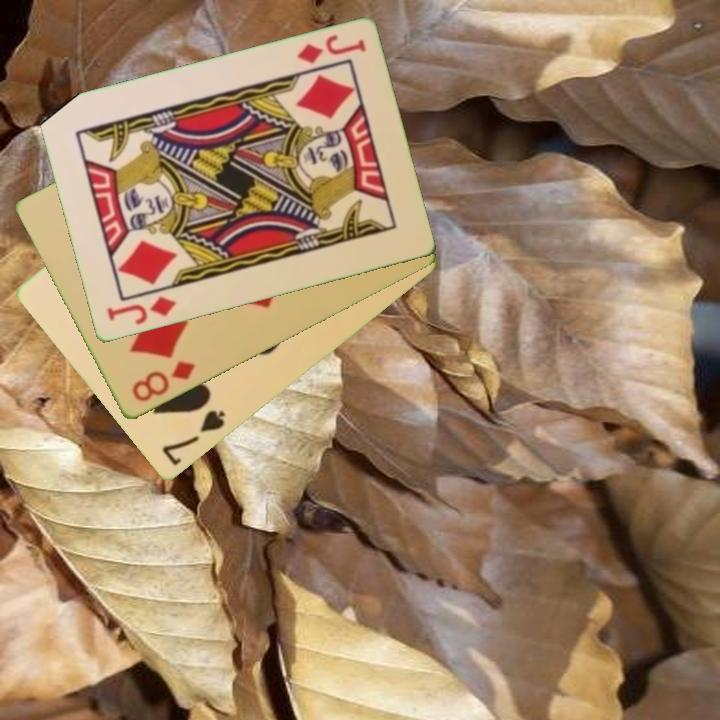7s: (158, 407, 229, 470)
8d: (128, 357, 198, 406)
Jd: (103, 293, 179, 329), (293, 31, 369, 67)
